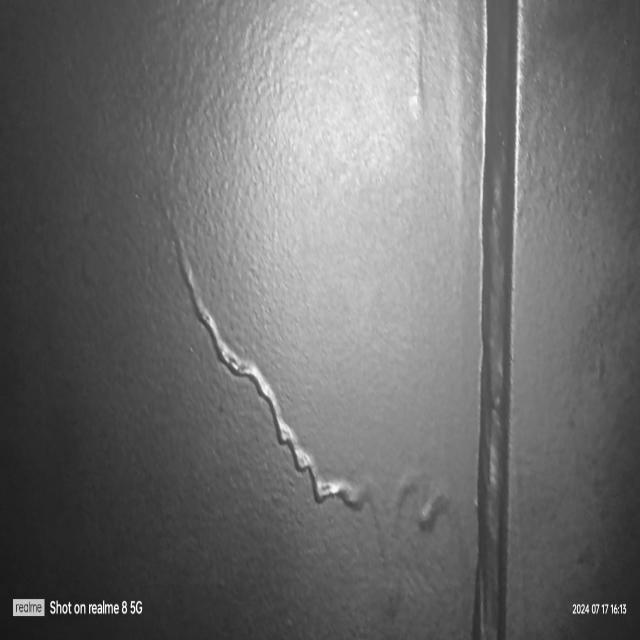paint drips: (156, 190, 474, 640)
